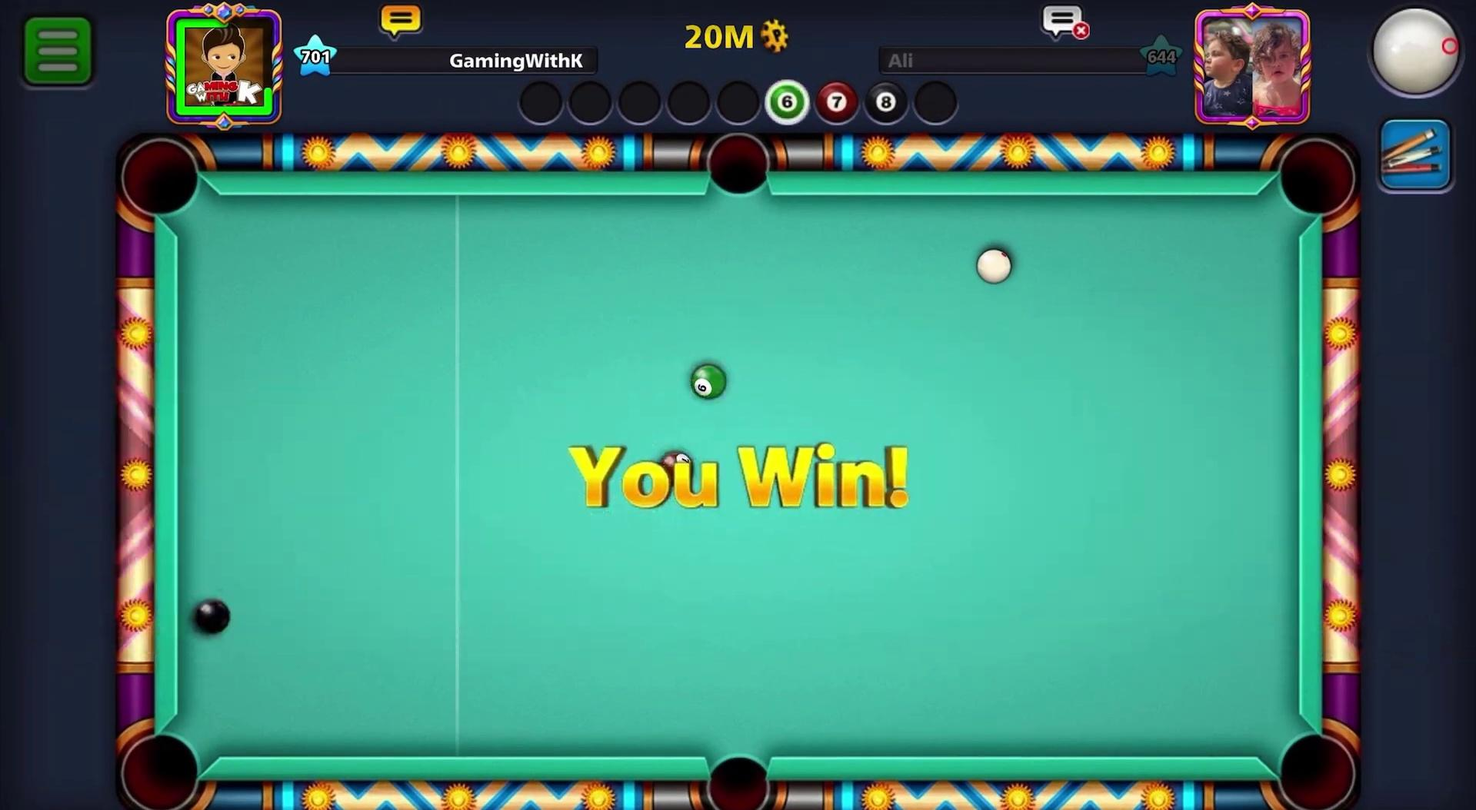Ball: (653, 440, 707, 495), (685, 357, 731, 406), (187, 593, 235, 639)
Hole: (108, 129, 212, 230), (1267, 130, 1367, 232), (111, 715, 211, 809), (1265, 720, 1364, 809), (695, 126, 789, 210), (686, 734, 785, 809)
Play_Area: (175, 192, 1301, 762)
Spin: (1341, 0, 1475, 117)
White: (969, 244, 1019, 289)
